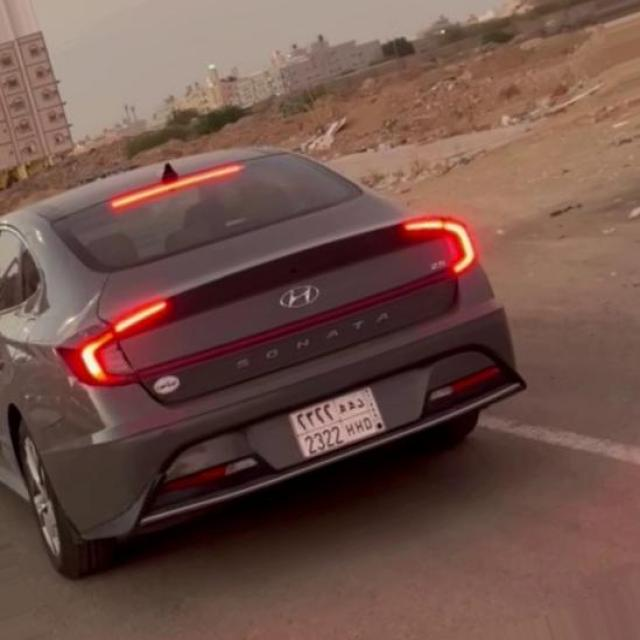Car-plate: (264, 381, 406, 466)
